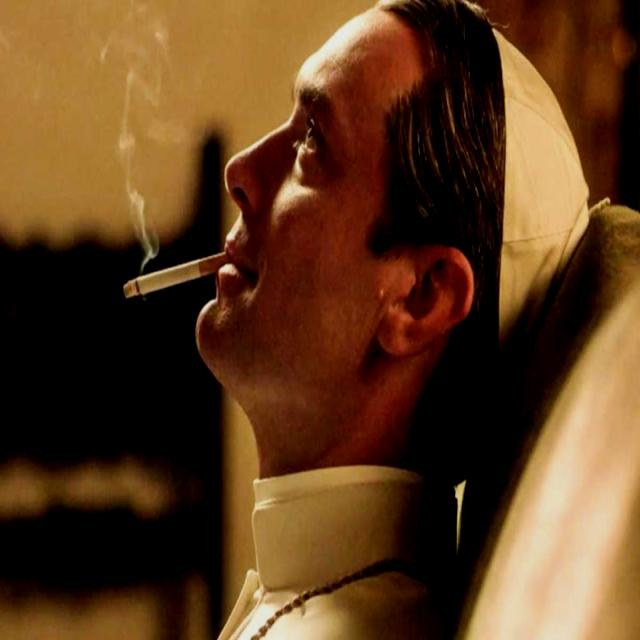Smooking: (110, 243, 252, 308)
